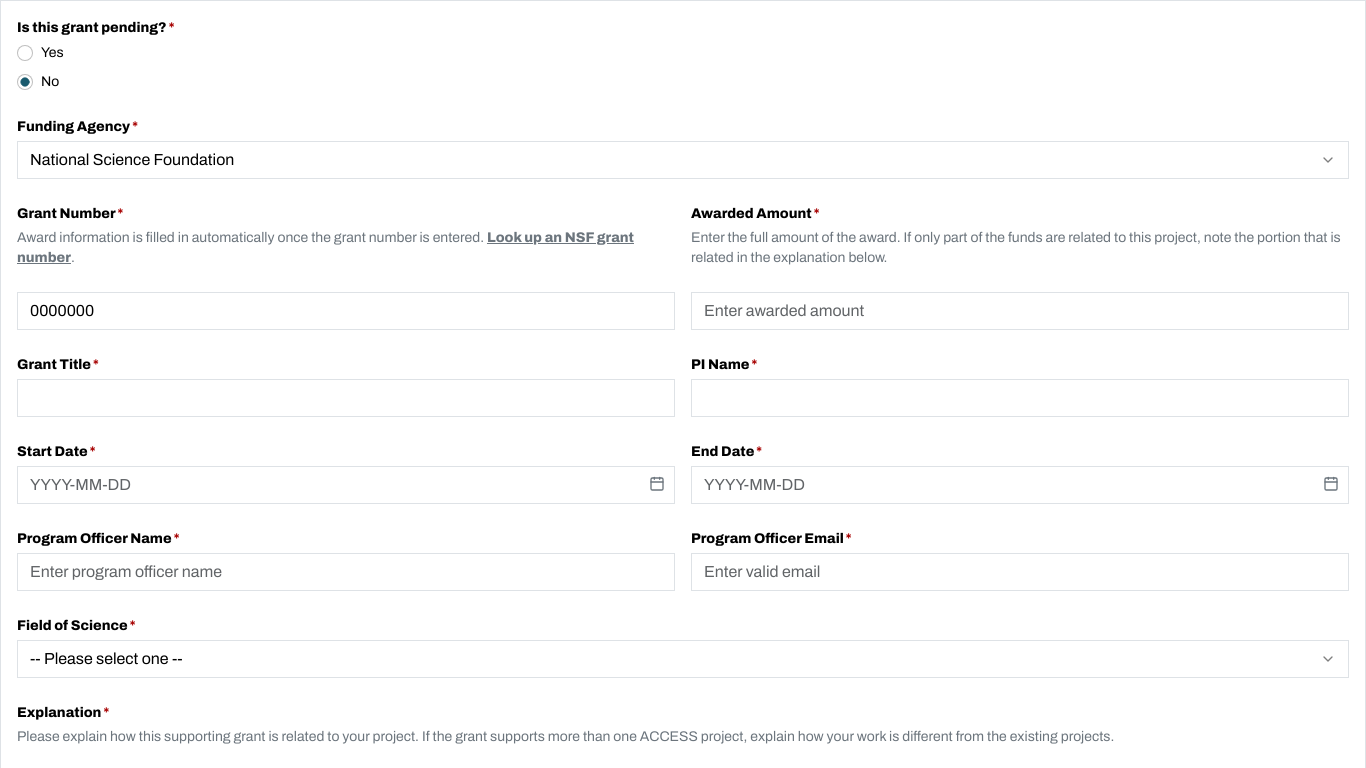
Test: GrantFields › the NSF lookup on blurring the grant number › shows a not-found message when the award number matches nothing
Click the field labelled "Grant Number*": [346, 311] box x1=17 y1=292 x2=675 y2=330
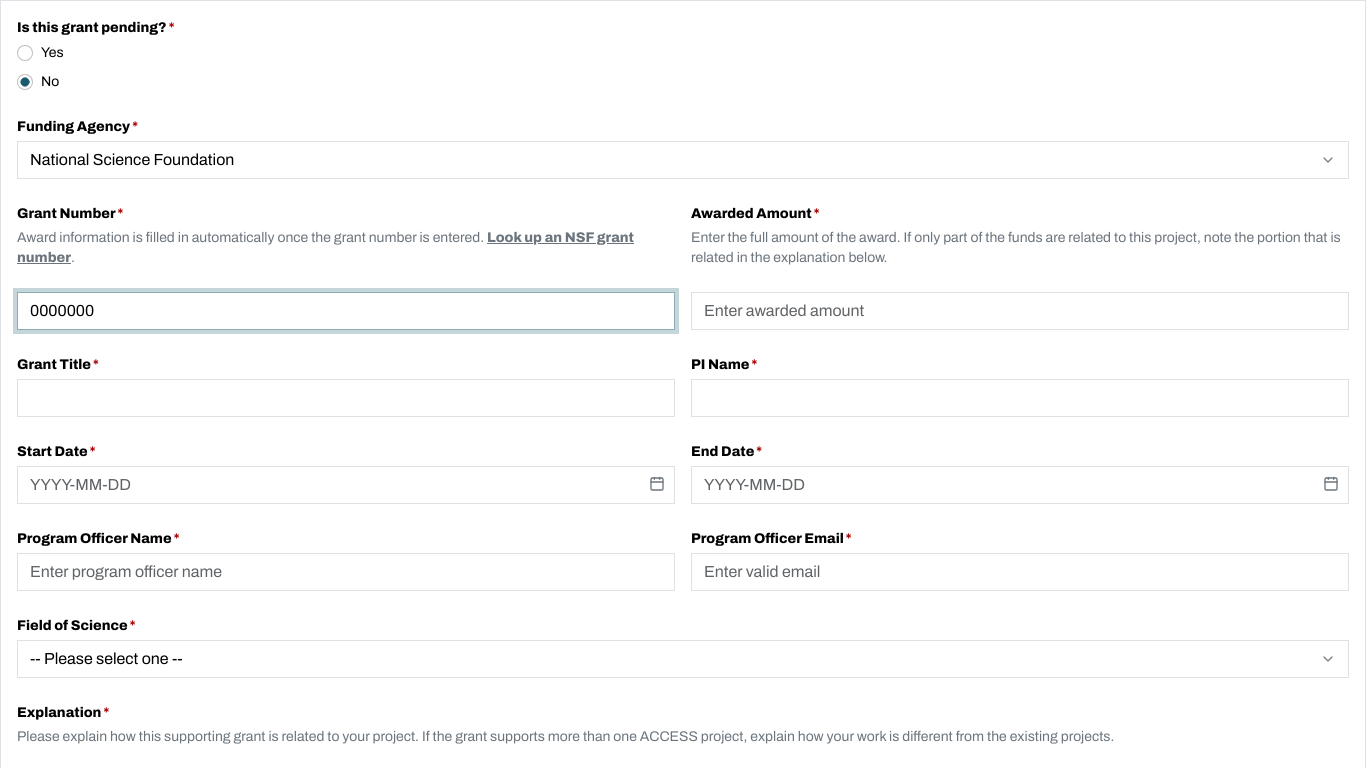
Press Tab
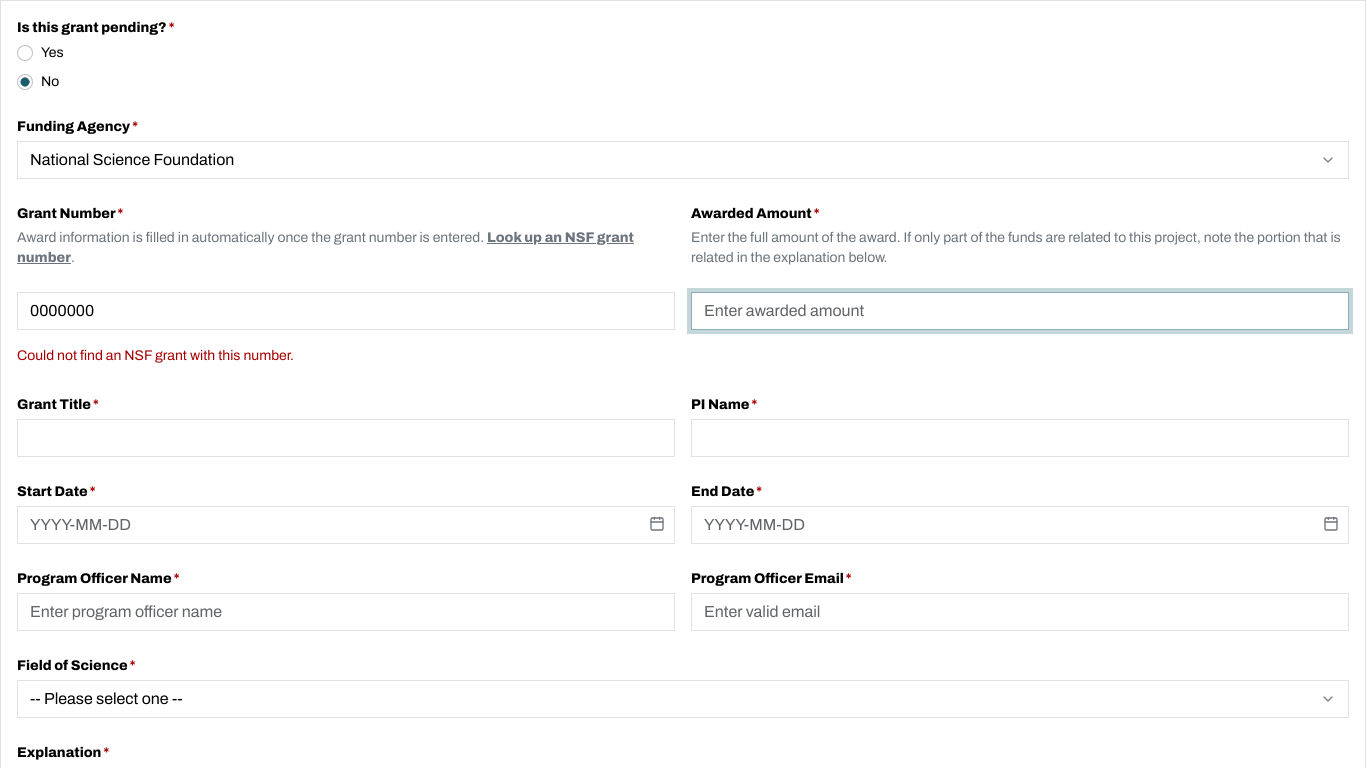
Expected: the text "Could not find an NSF grant with this number." is shown, x1=17 y1=348 x2=294 y2=363
